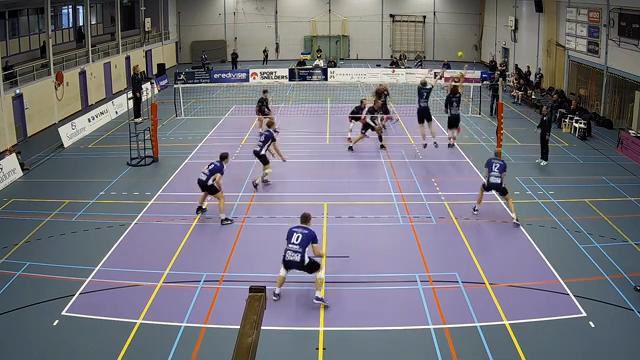Attack: (446, 63, 468, 93)
Block: (411, 64, 444, 150), (440, 61, 468, 152)
Player: (273, 212, 327, 305), (472, 150, 519, 224), (196, 152, 233, 224), (252, 119, 285, 189), (348, 100, 385, 151), (347, 99, 365, 141), (374, 84, 390, 128), (256, 89, 272, 131)
ball: (458, 50, 465, 59)
